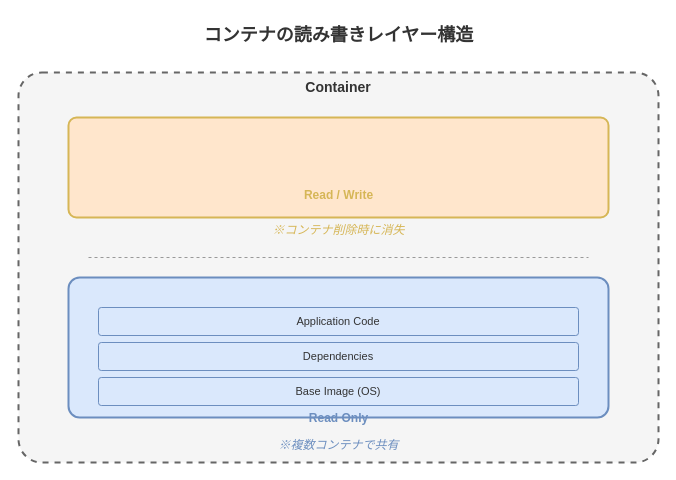
The diagram is 676 pixels wide and 480 high, and some of its shapes have lost their labels. Here are the shapes that lost their labels. From the top down, the box of each, then its label:
(67, 116, 609, 218): 書き込み可能レイヤー（Container Layer）
(67, 276, 609, 418): 読み取り専用レイヤー（Image Layers）
